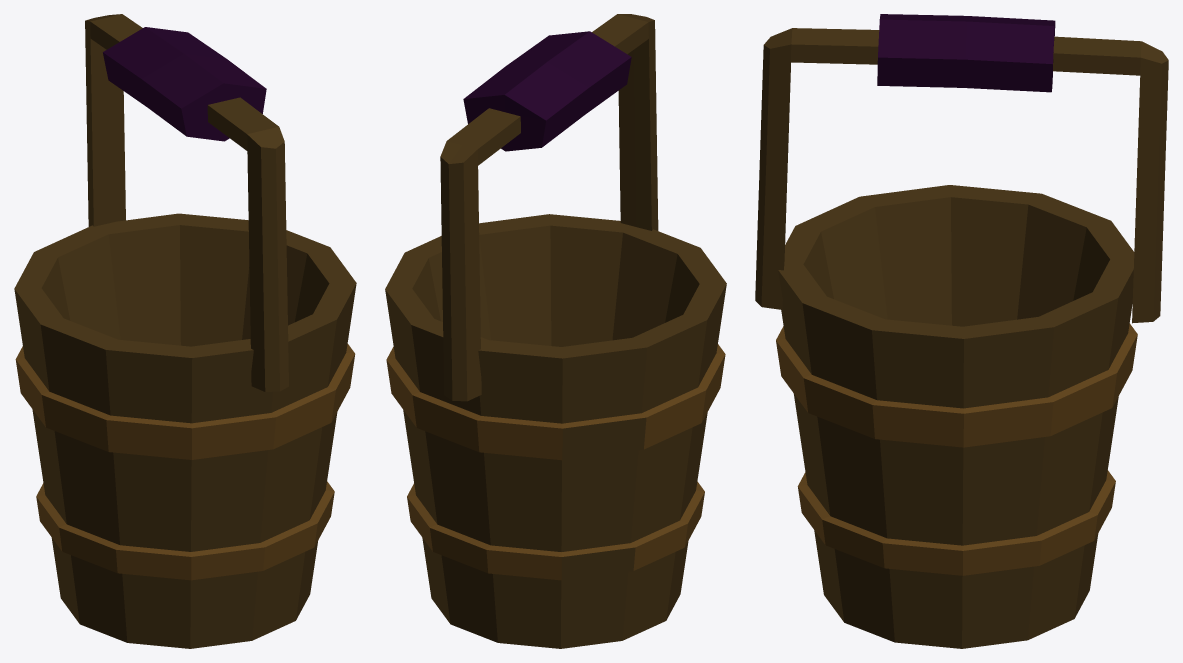
The model's file is bucket_up_empty.fbx.
3 renders of one model, left to right at view 1: azimuth 30°, elevation 25°; view 2: azimuth 150°, elevation 25°; view 3: azimuth 270°, elevation 25°, orthographic. The views are drawn at different scales.
Parts seen in each view (by area): view 1: bucket_up_empty; view 2: bucket_up_empty; view 3: bucket_up_empty.
Part boxes in pixels (<box>): bucket_up_empty: <box>14,14,356,648</box>; bucket_up_empty: <box>385,14,726,648</box>; bucket_up_empty: <box>755,14,1168,648</box>.
Size of the model in its own units: 57.04 by 99.09 by 64.68.
